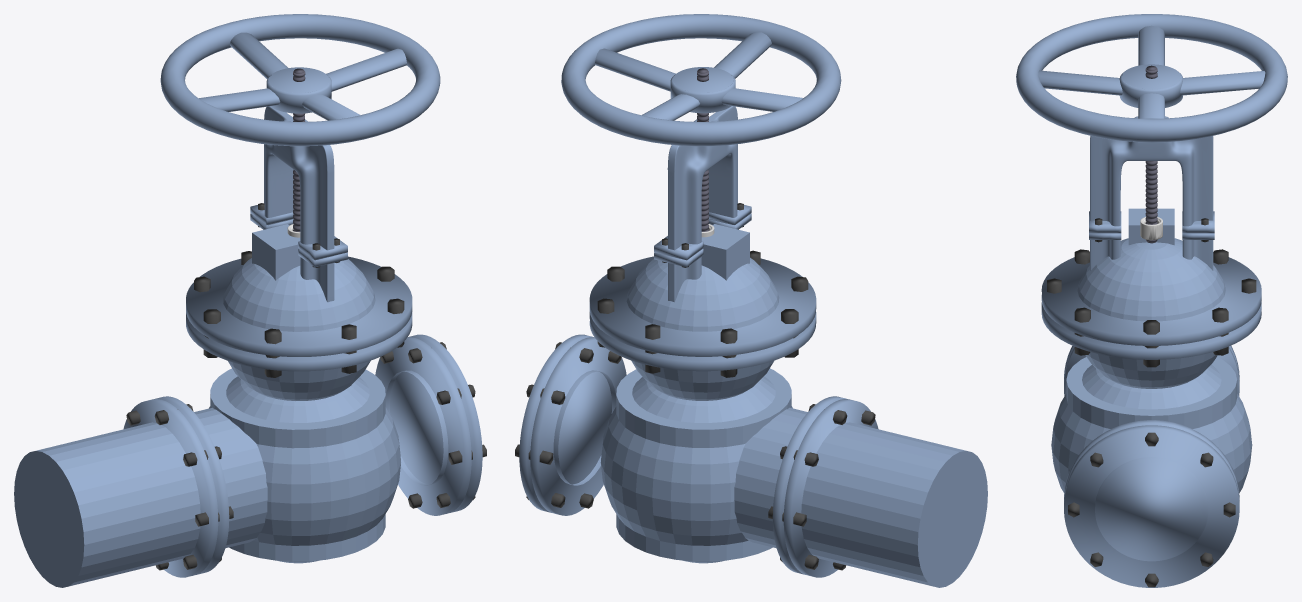
File: globe-valve.glb
3 views of the same model, side by side, from view 1: azimuth 30°, elevation 25°; view 2: azimuth 150°, elevation 25°; view 3: azimuth 270°, elevation 25° (orthographic). The views are drawn at different scales.
Parts seen in each view (by area): view 1: Obj3d66-1060089-1697-131, Obj3d66-1060089-1741-425, Obj3d66-1060089-1704-108, Obj3d66-1060089-1708-901, Obj3d66-1060089-1703-481, Obj3d66-1060089-1700-403, Obj3d66-1060089-1699-821, Obj3d66-1060089-1701-901, Obj3d66-1060089-1707-385, Obj3d66-1060089-1702-882, Obj3d66-1060089-1705-513, Obj3d66-1060089-1698-14; view 2: Obj3d66-1060089-1697-131, Obj3d66-1060089-1741-425, Obj3d66-1060089-1704-108, Obj3d66-1060089-1708-901, Obj3d66-1060089-1703-481, Obj3d66-1060089-1700-403, Obj3d66-1060089-1699-821, Obj3d66-1060089-1701-901, Obj3d66-1060089-1707-385, Obj3d66-1060089-1702-882, Obj3d66-1060089-1709-315, Obj3d66-1060089-1698-14; view 3: Obj3d66-1060089-1708-901, Obj3d66-1060089-1741-425, Obj3d66-1060089-1700-403, Obj3d66-1060089-1703-481, Obj3d66-1060089-1701-901, Obj3d66-1060089-1704-108, Obj3d66-1060089-1699-821, Obj3d66-1060089-1702-882, Obj3d66-1060089-1698-14, Obj3d66-1060089-1707-385, Obj3d66-1060089-1709-315, Obj3d66-1060089-1705-513 (+1 smaller).
Part boxes in pixels (box(x1,y1,x2,y2)): Obj3d66-1060089-1697-131: box(14, 407, 267, 587); Obj3d66-1060089-1741-425: box(160, 14, 440, 146); Obj3d66-1060089-1704-108: box(209, 376, 400, 563); Obj3d66-1060089-1708-901: box(375, 334, 482, 515); Obj3d66-1060089-1703-481: box(186, 256, 412, 371); Obj3d66-1060089-1700-403: box(223, 258, 375, 400); Obj3d66-1060089-1699-821: box(210, 368, 385, 561); Obj3d66-1060089-1701-901: box(264, 106, 334, 302); Obj3d66-1060089-1707-385: box(123, 396, 229, 577); Obj3d66-1060089-1702-882: box(252, 224, 300, 280); Obj3d66-1060089-1705-513: box(298, 236, 347, 267); Obj3d66-1060089-1698-14: box(293, 68, 305, 232); Obj3d66-1060089-1697-131: box(734, 407, 987, 587); Obj3d66-1060089-1741-425: box(561, 14, 841, 146); Obj3d66-1060089-1704-108: box(600, 376, 792, 563); Obj3d66-1060089-1708-901: box(519, 334, 626, 515); Obj3d66-1060089-1703-481: box(589, 256, 816, 371); Obj3d66-1060089-1700-403: box(626, 257, 779, 400); Obj3d66-1060089-1699-821: box(616, 368, 791, 561); Obj3d66-1060089-1701-901: box(667, 106, 737, 302); Obj3d66-1060089-1707-385: box(772, 396, 878, 577); Obj3d66-1060089-1702-882: box(701, 224, 749, 280); Obj3d66-1060089-1709-315: box(654, 236, 703, 267); Obj3d66-1060089-1698-14: box(697, 68, 708, 231); Obj3d66-1060089-1708-901: box(1064, 420, 1239, 587); Obj3d66-1060089-1741-425: box(1016, 14, 1287, 142); Obj3d66-1060089-1700-403: box(1077, 238, 1225, 388); Obj3d66-1060089-1703-481: box(1041, 257, 1261, 359); Obj3d66-1060089-1701-901: box(1090, 116, 1213, 270); Obj3d66-1060089-1704-108: box(1051, 364, 1252, 492); Obj3d66-1060089-1699-821: box(1066, 357, 1237, 428); Obj3d66-1060089-1702-882: box(1128, 208, 1174, 245); Obj3d66-1060089-1698-14: box(1145, 65, 1157, 243); Obj3d66-1060089-1707-385: box(1064, 345, 1239, 396); Obj3d66-1060089-1709-315: box(1182, 211, 1214, 239); Obj3d66-1060089-1705-513: box(1089, 211, 1121, 239).
Size of the model in its own units: 4489 by 5258 by 2756.
